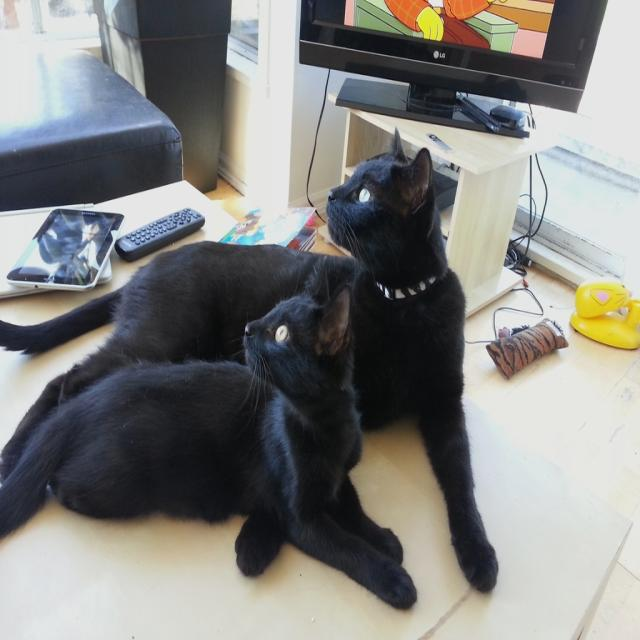Cat: (0, 125, 499, 592), (0, 253, 418, 612)
